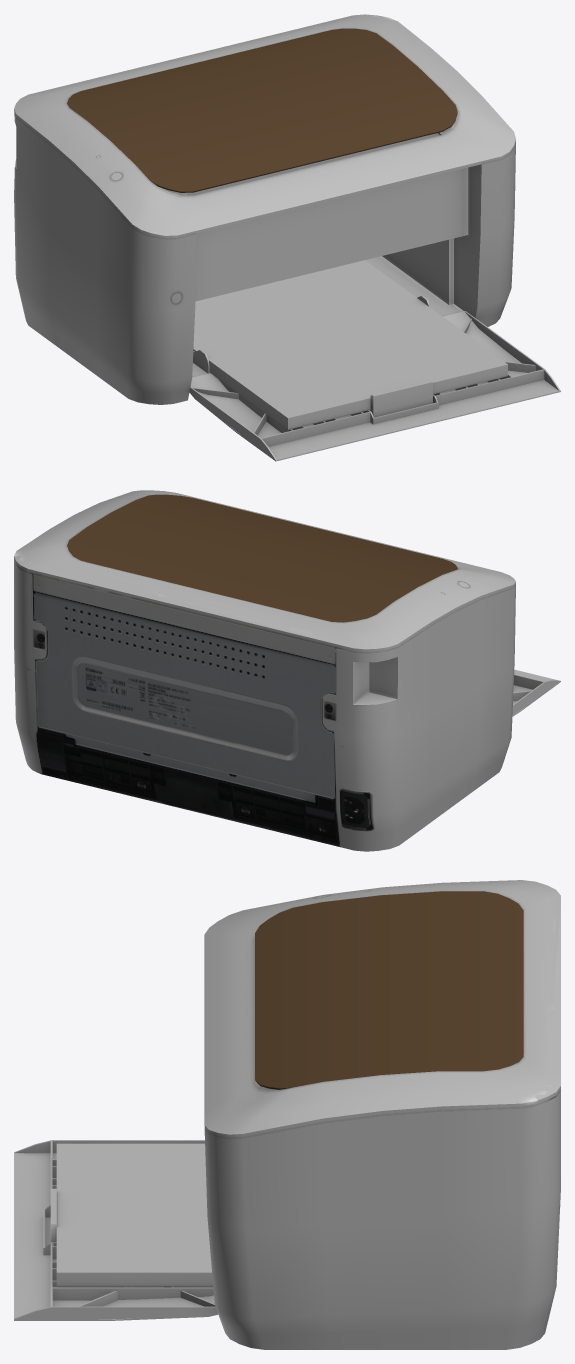
Rendered from print.FBX.
3 renders of one model, top to bottom at view 1: azimuth 30°, elevation 25°; view 2: azimuth 150°, elevation 25°; view 3: azimuth 270°, elevation 25°, orthographic. The views are drawn at different scales.
Visible parts, largest first — view 1: print_low; view 2: print_low; view 3: print_low.
Boxes of the visible parts, x1=… form: print_low: x1=14, y1=14, x2=560, y2=461; print_low: x1=14, y1=490, x2=560, y2=851; print_low: x1=14, y1=880, x2=560, y2=1349.
Bounding box in the file's own units: 0.00364 × 0.00197 × 0.00376.
Materials: 1 (1 with a texture image).
